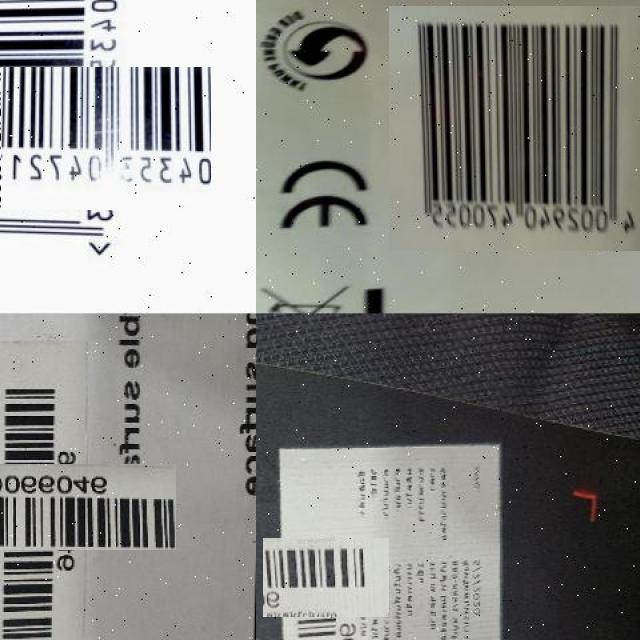Barcode: (392, 2, 640, 254), (0, 33, 178, 243), (0, 419, 132, 595), (274, 526, 378, 628)
